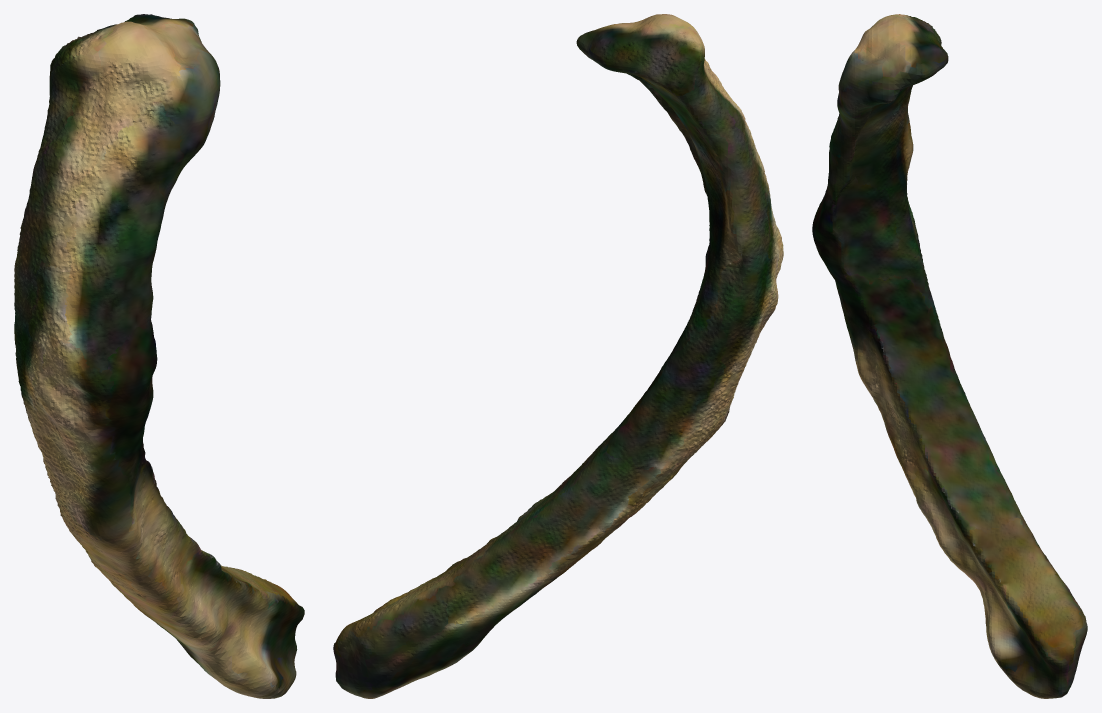
Rendered from 8r_ribs.glb.
3 views of the same model, side by side, from view 1: azimuth 30°, elevation 25°; view 2: azimuth 150°, elevation 25°; view 3: azimuth 270°, elevation 25° (orthographic). The views are drawn at different scales.
Visible parts, largest first — view 1: Node; view 2: Node; view 3: Node.
Part boxes in pixels (bbox=[...]): Node: bbox=[14, 14, 304, 698]; Node: bbox=[333, 14, 783, 698]; Node: bbox=[812, 14, 1087, 698].
Bounding box in the file's own units: 15.58 × 30.02 × 12.71.
1 material, 1 textured.
